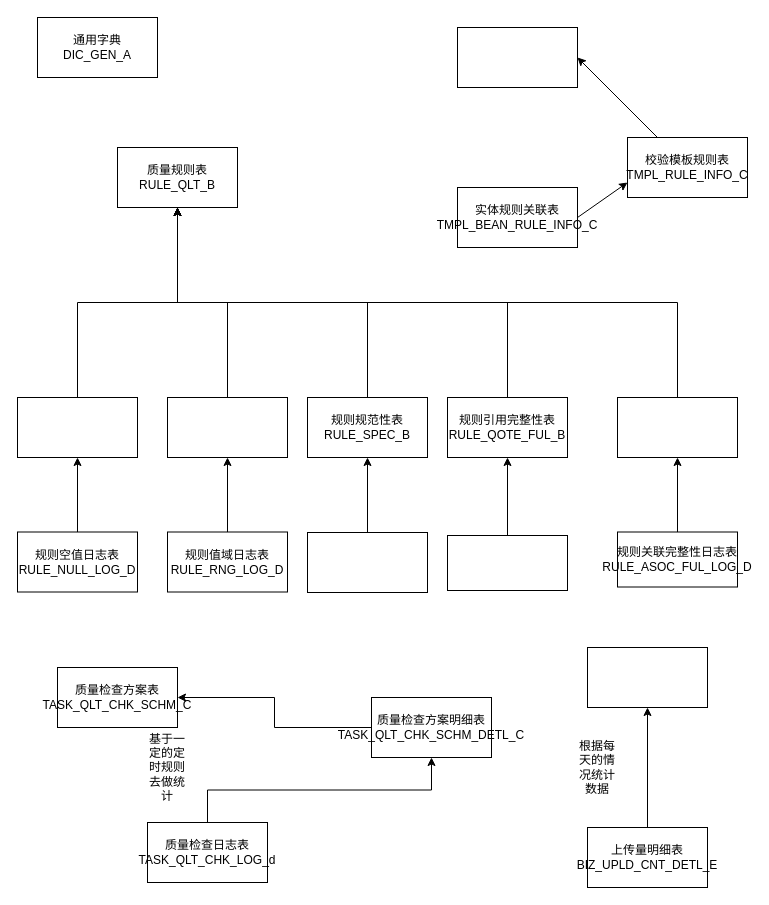
The diagram is 769 pixels wide and 905 high, and some of its shapes have lost their labels. Each missing label, with the centre of its shape:
"上传量表 BIZ_UPLD_CNT_E" belongs at (647,677).
"检验模板表 TMPL_INFO_C" belongs at (517,57).
"规则值域表 RULE_RNG_B" belongs at (227,427).
"规则关联完整性表 RULE_ASOC_FUL_B" belongs at (677,427).
"规则引用完整性日志表 RULE_QOTE_FUL_LOG_D" belongs at (507,562).
"规则空值表 RULE_NULL_B" belongs at (77,427).
"规则规范性日志表 RULE_SPEC_LOG_D" belongs at (367,562).
